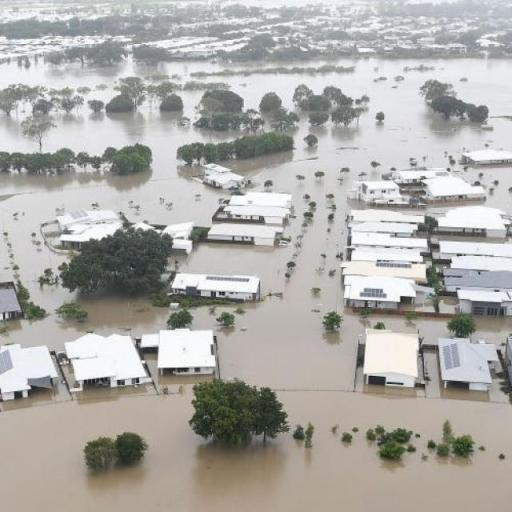flood: (0, 57, 512, 392), (0, 355, 512, 512), (0, 90, 246, 351), (0, 103, 38, 152), (477, 318, 512, 333)
house: (62, 328, 146, 392), (358, 321, 424, 388), (338, 268, 426, 314), (434, 336, 504, 391), (443, 268, 512, 317), (2, 340, 56, 402), (153, 330, 216, 383), (172, 270, 264, 306), (210, 221, 284, 249), (425, 176, 488, 204), (222, 202, 290, 224), (59, 212, 99, 248), (360, 178, 406, 208), (162, 219, 200, 254), (201, 162, 245, 190), (1, 274, 22, 327), (466, 148, 512, 168)
